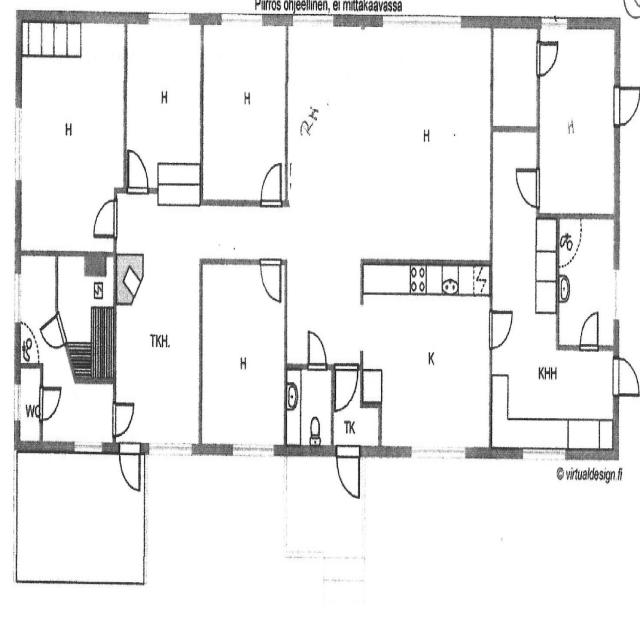door: (336, 446, 359, 500), (40, 312, 67, 358), (613, 358, 640, 396), (335, 364, 357, 410), (120, 446, 140, 496), (613, 87, 640, 124), (516, 169, 540, 207), (261, 162, 281, 205), (128, 152, 148, 194), (260, 259, 280, 301), (489, 312, 512, 348), (537, 40, 560, 76), (94, 202, 116, 236), (113, 402, 135, 436), (40, 388, 62, 421), (580, 310, 598, 350), (308, 331, 326, 369)
